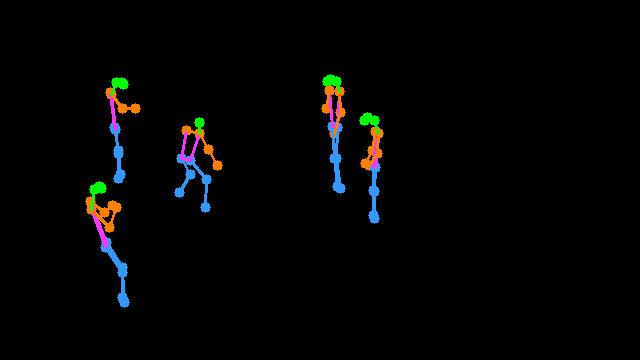normal: (306, 65, 397, 238), (74, 177, 146, 314), (164, 110, 240, 221), (94, 68, 151, 189)
